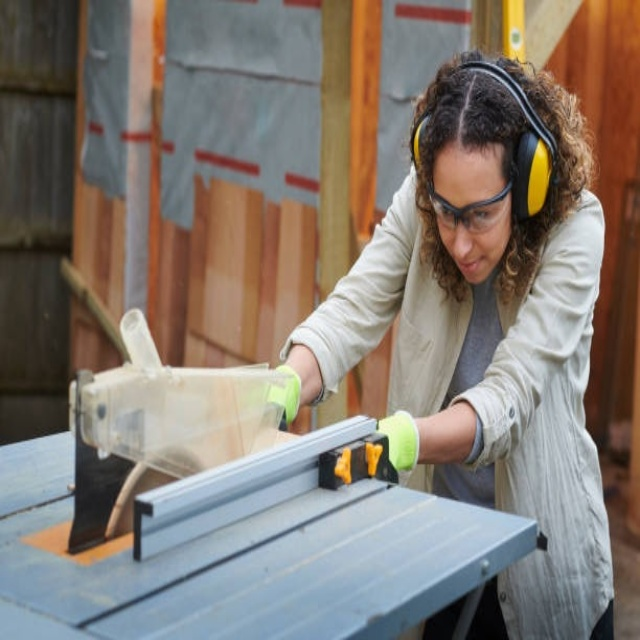Gafas: (427, 173, 513, 231)
Guantes: (375, 410, 420, 474), (262, 365, 301, 425)
Sin_mascara: (452, 248, 496, 282)
